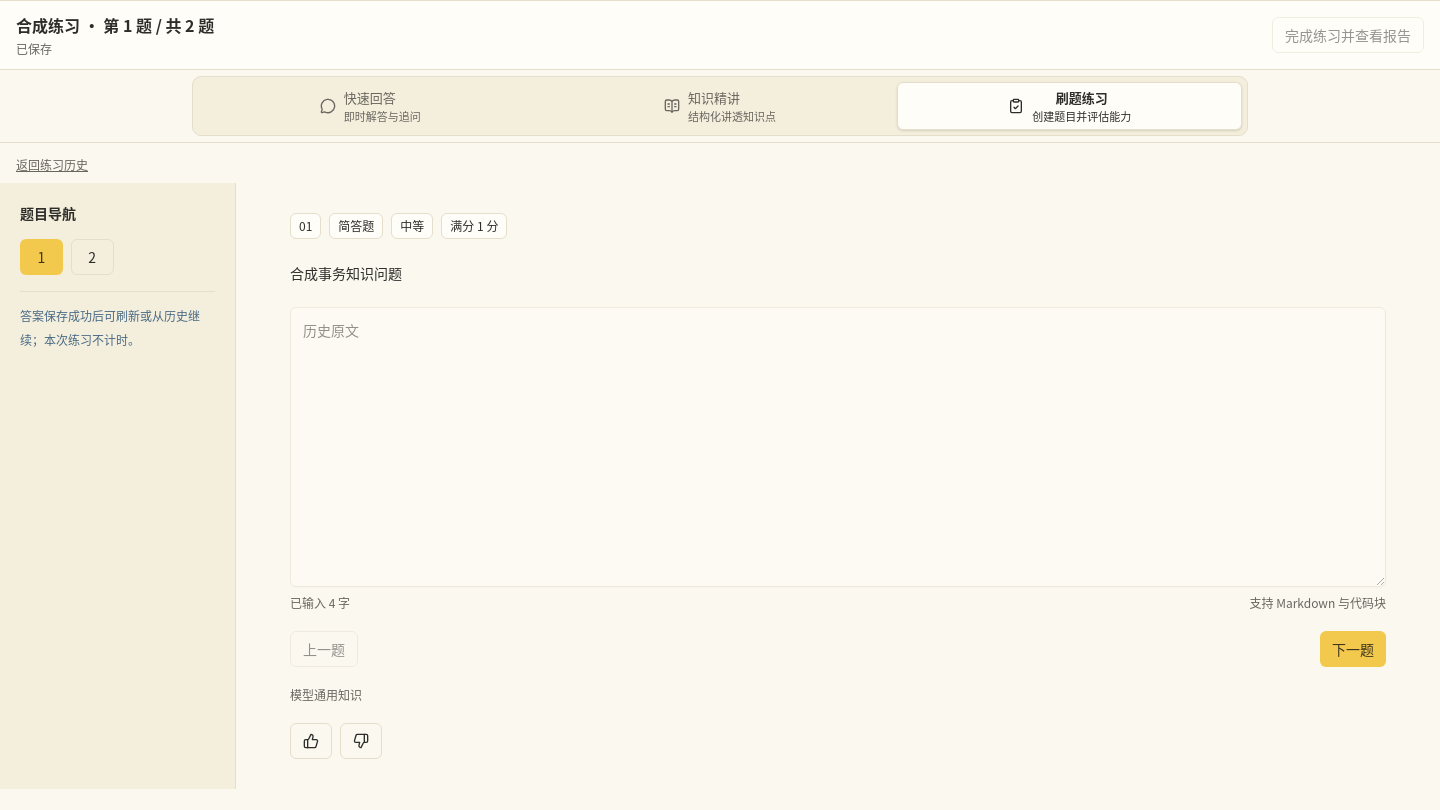
Test: 练习保存与提交边界 › 完成后的历史题目切换不发出答案写入
Click the button named "第2题".
click(92, 257)  # box [71, 239, 114, 275]
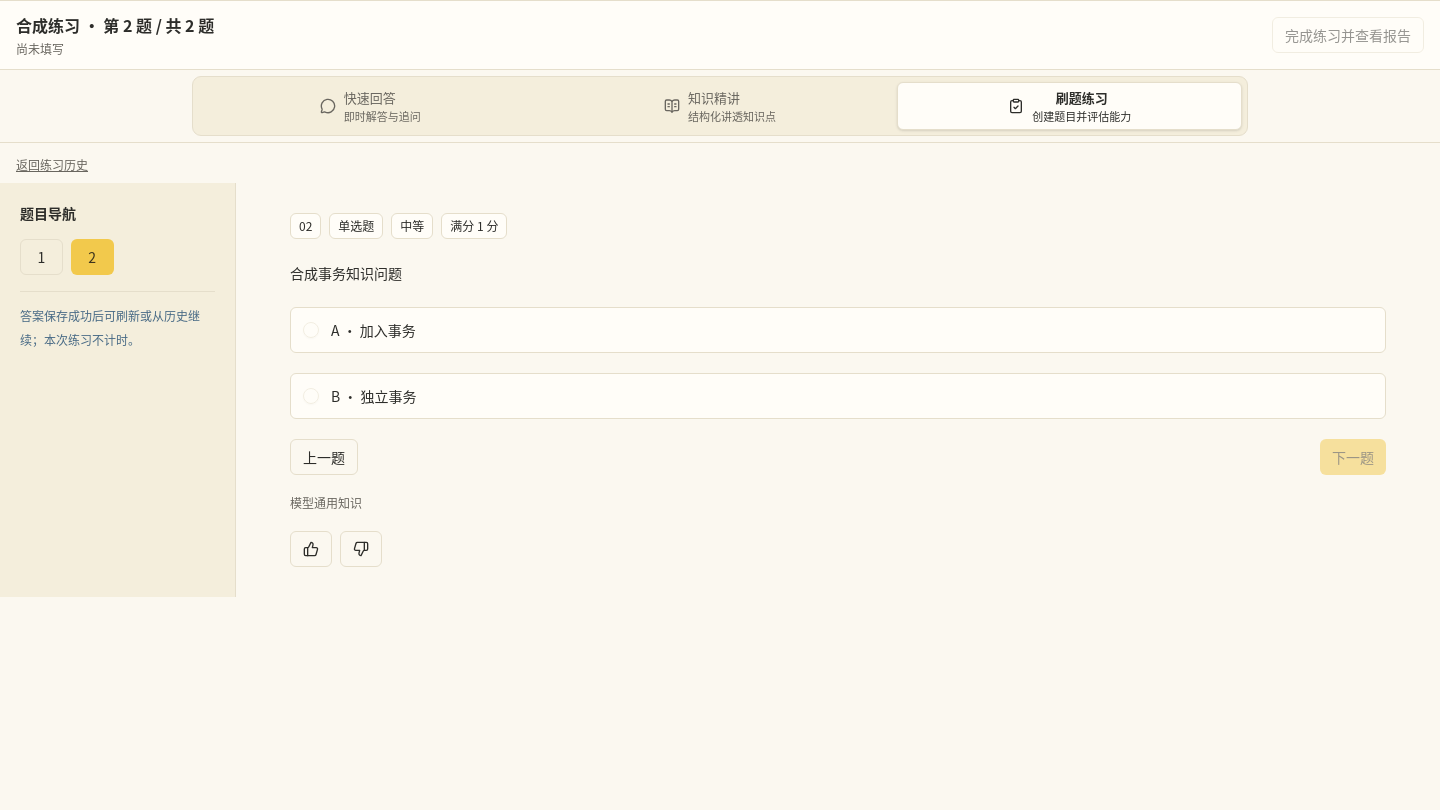
Check: the heading "合成练习 · 第 2 题 / 共 2 题" is shown, box [16, 13, 214, 37]
